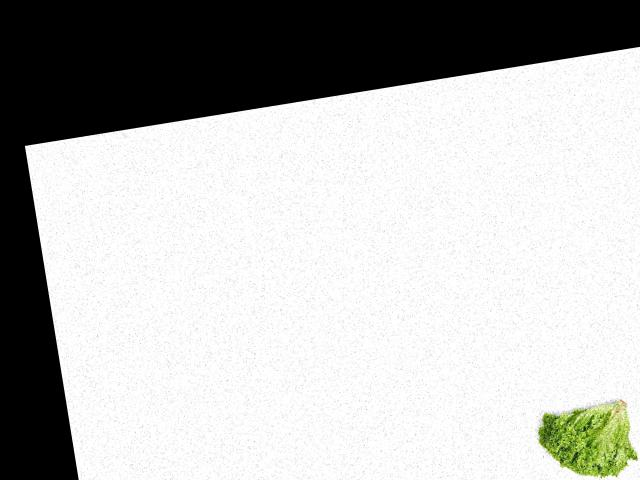lettuce: (528, 389, 640, 480)
